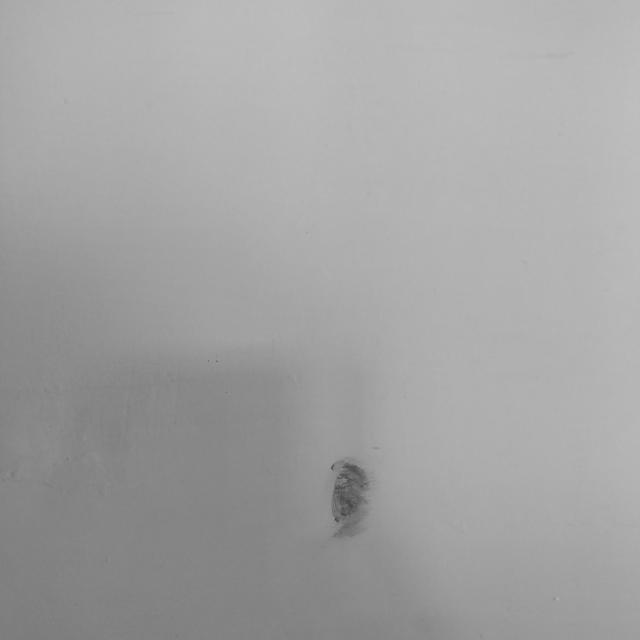rough and patchy surface: (6, 418, 137, 498)
stain marks: (314, 452, 386, 543)
